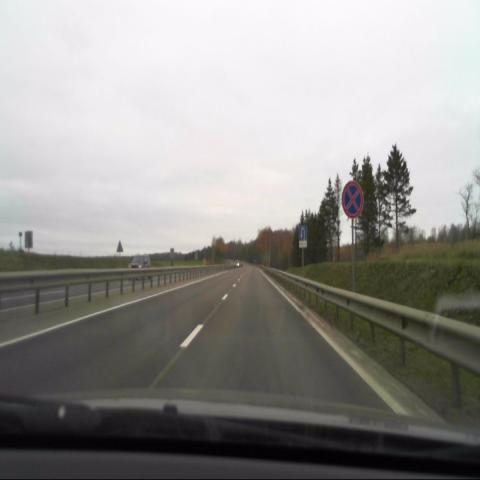3_27: (341, 179, 364, 218)
